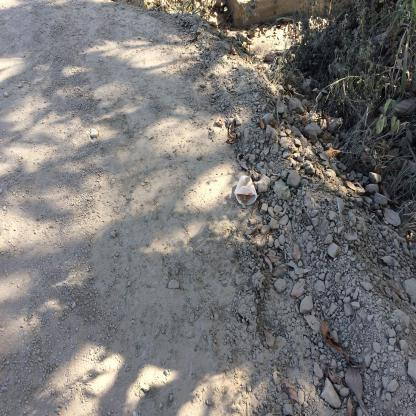karton: (234, 176, 257, 206)
